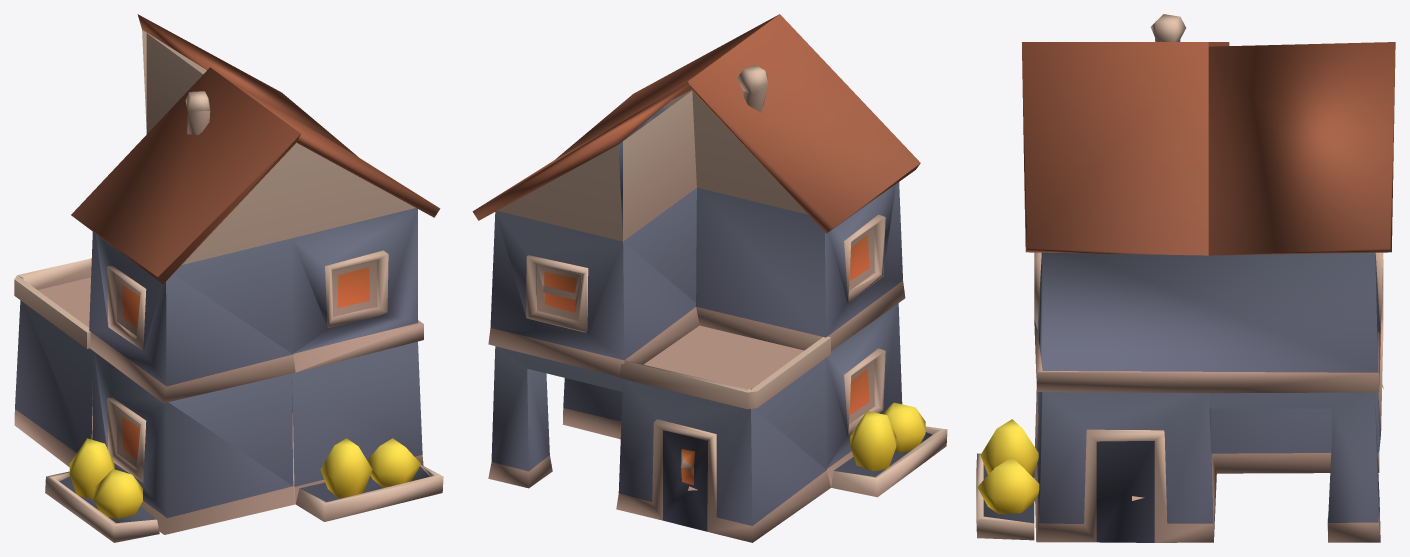
File: casa_r.fbx
The picture shows the model from 3 angles, left to right: view 1: azimuth 30°, elevation 25°; view 2: azimuth 150°, elevation 25°; view 3: azimuth 270°, elevation 25°; orthographic projection. The views are drawn at different scales.
Visible parts, largest first — view 1: casa_r; view 2: casa_r; view 3: casa_r.
Part boxes in pixels (x1=…): casa_r: x1=14, y1=14, x2=443, y2=542; casa_r: x1=472, y1=14, x2=947, y2=542; casa_r: x1=976, y1=14, x2=1395, y2=542.
Bounding box in the file's own units: 1.01 × 1.14 × 1.01.
